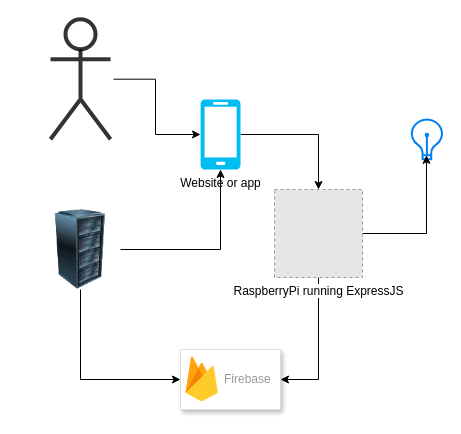
This 461x434 diagram has some shape labels left out. Grey dashed boxes stand in for pictures. Here are the shapes that lost their labels. From the top down, the centre of each, then its label:
(80,79): USER
(80,249): Server Hosting Website
